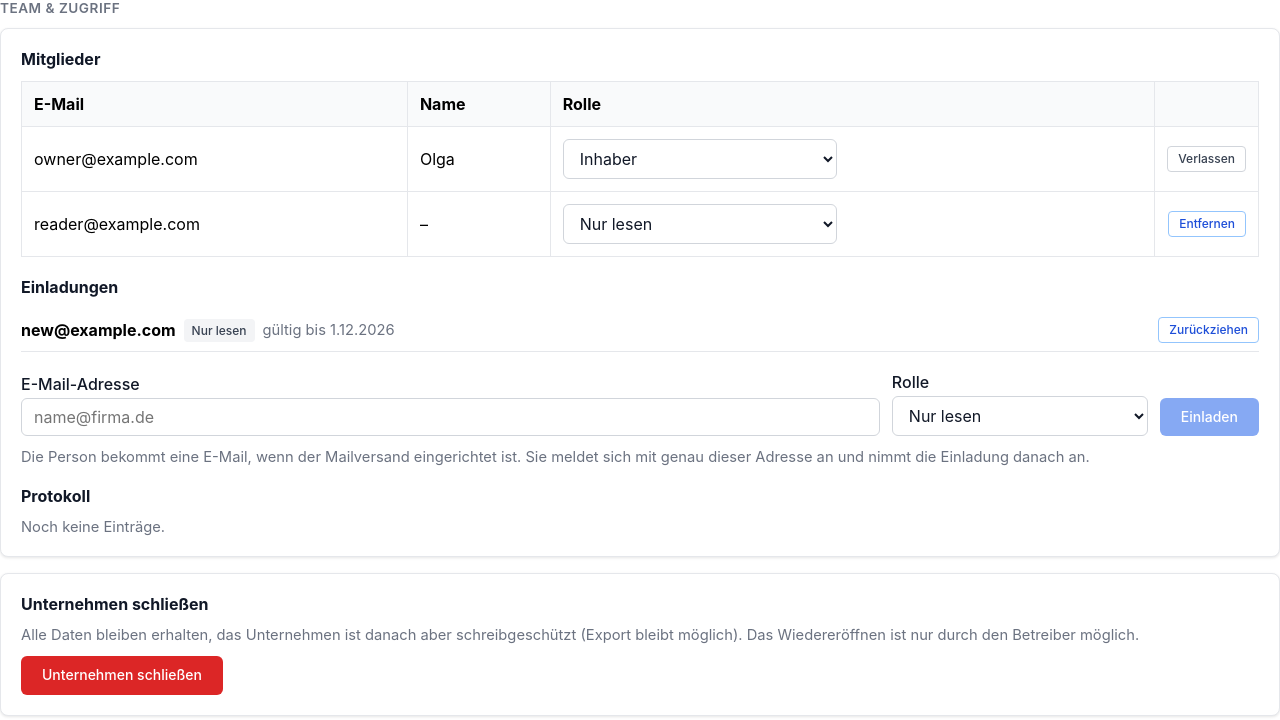
Test: TeamSettings as an owner › says plainly when no mail went out and how to tell the person instead
The image size is (1280, 720).
In the field labelled "E-Mail-Adresse": (450, 417) [21, 398, 880, 436], type "bob@example.com"
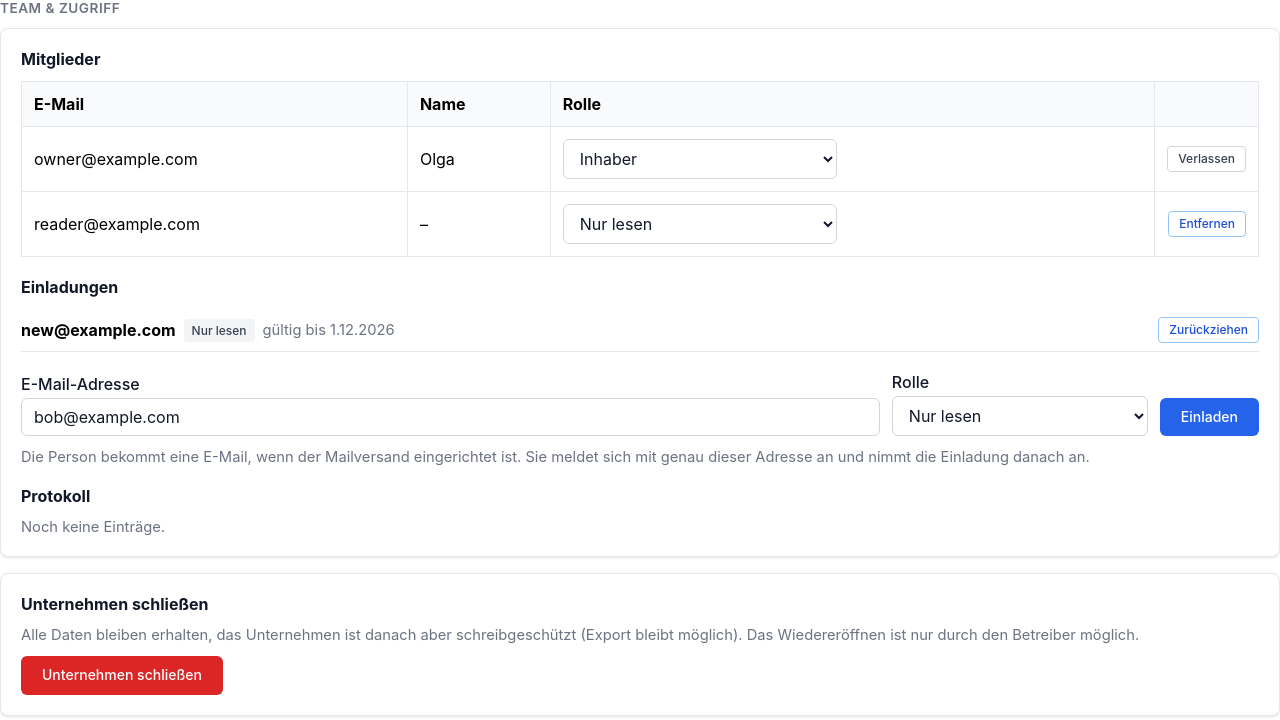
Submit the form with test id "invite-form", box [21, 372, 1259, 436]
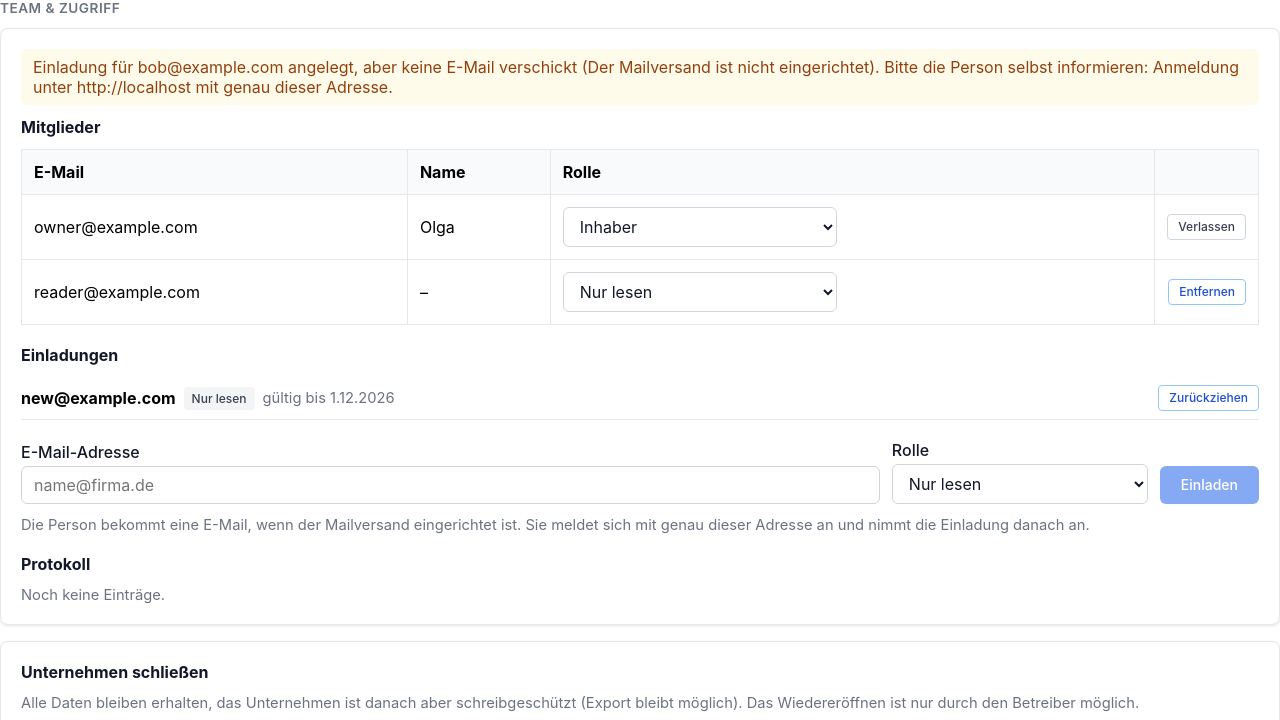
Result: the message shows "Einladung für bob@example.com angelegt, aber keine E-Mail verschickt" at [33, 57, 1239, 97]
Result: the message shows "(Der Mailversand ist nicht eingerichtet)" at [33, 57, 1239, 97]
Result: the message with class "notice-warning" is shown at [21, 49, 1259, 105]
